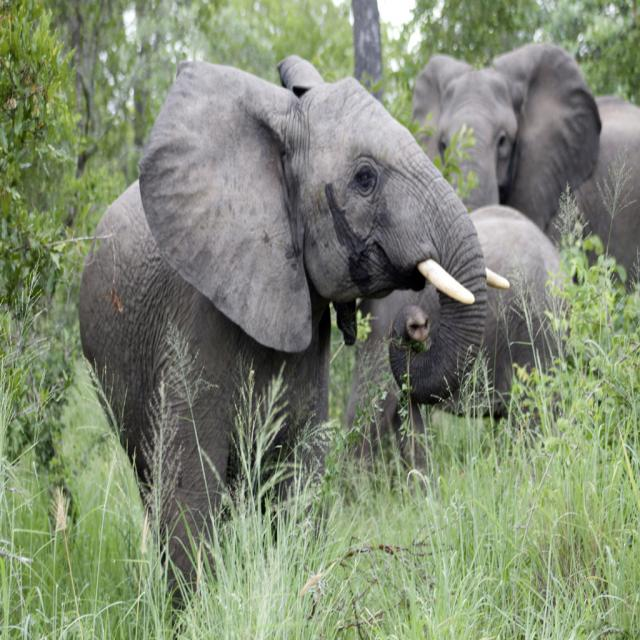elephant: (78, 53, 508, 639), (362, 225, 569, 520), (416, 43, 640, 290)
